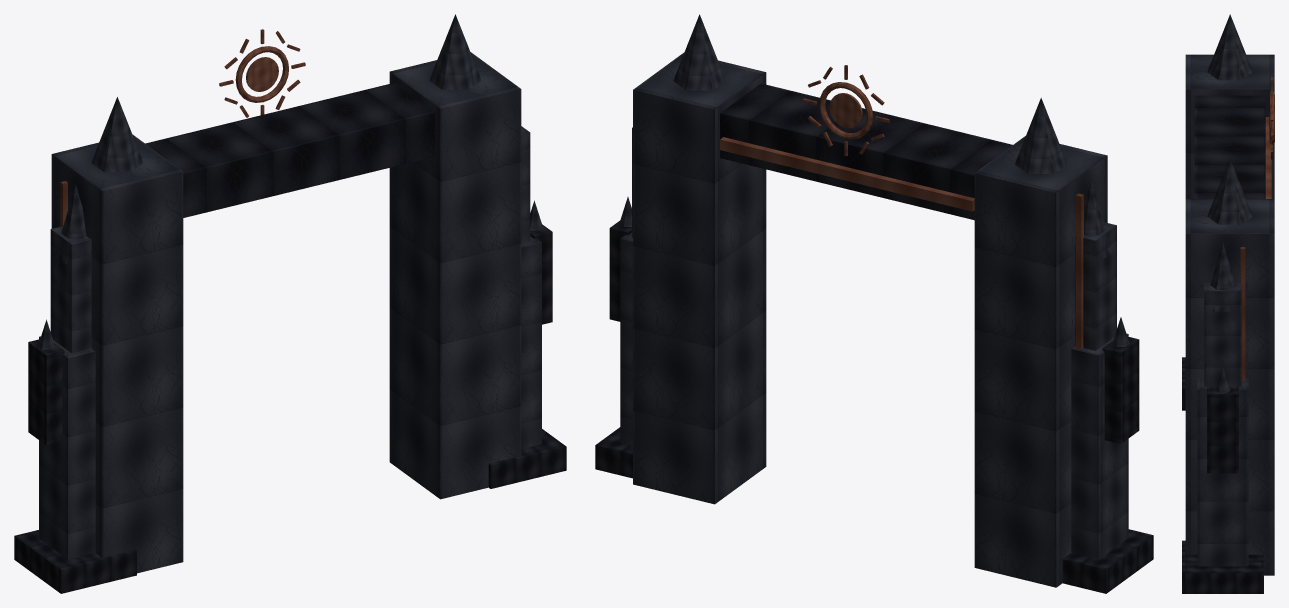
Rendered from blackstone-gate.glb.
3 renders of one model, left to right at view 1: azimuth 30°, elevation 25°; view 2: azimuth 150°, elevation 25°; view 3: azimuth 270°, elevation 25°, orthographic. The views are drawn at different scales.
Parts seen in each view (by area): view 1: Gate_Tower_1, Gate_Tower_-1, Gate_Lintel, Gate_Buttress_-1_Lower, Gate_Buttress_-1_Upper, Gate_Buttress_1_Lower, Gate_Buttress_-1_Foot, Gate_Buttress_-1_Shoulder_-1, Gate_Buttress_1_Foot, Gate_TowerCrown_-1, Gate_TowerCrown_1, Gate_Buttress_1_Shoulder_1 (+4 smaller); view 2: Gate_Tower_1, Gate_Tower_-1, Gate_Lintel, Gate_Buttress_-1_Lower, Gate_Buttress_-1_Upper, Gate_BronzeLintel, Gate_Buttress_-1_Shoulder_-1, Gate_Buttress_-1_Foot, Gate_Buttress_1_Lower, Gate_TowerCrown_1, Gate_TowerCrown_-1, Gate_Buttress_1_Foot (+5 smaller); view 3: Gate_Tower_1, Gate_Lintel, Gate_Buttress_1_Lower, Gate_Tower_-1, Gate_Buttress_1_Upper, Gate_Buttress_1_Foot, Gate_Buttress_1_Shoulder_1, Gate_TowerCrown_-1, Gate_TowerCrown_1, Gate_Buttress_1_Crown, Gate_Buttress_1_BronzeSpine, Gate_BronzeLintel (+3 smaller).
Boxes of the visible parts, x1,y1,x2,y2 form: Gate_Tower_1: (389,52,521,499); Gate_Tower_-1: (51,134,183,573); Gate_Lintel: (145,82,435,217); Gate_Buttress_-1_Lower: (39,336,95,559); Gate_Buttress_-1_Upper: (50,226,91,353); Gate_Buttress_1_Lower: (521,236,541,448); Gate_Buttress_-1_Foot: (14,530,136,593); Gate_Buttress_-1_Shoulder_-1: (28,339,64,445); Gate_Buttress_1_Foot: (488,429,566,488); Gate_TowerCrown_-1: (91,97,143,172); Gate_TowerCrown_1: (429,14,481,89); Gate_Buttress_1_Shoulder_1: (530,224,552,324); Gate_Tower_1: (633,52,766,504); Gate_Tower_-1: (974,136,1107,587); Gate_Lintel: (720,83,1012,220); Gate_Buttress_-1_Lower: (1071,333,1128,559); Gate_Buttress_-1_Upper: (1075,222,1116,350); Gate_BronzeLintel: (720,137,974,211); Gate_Buttress_-1_Shoulder_-1: (1102,336,1139,443); Gate_Buttress_-1_Foot: (1062,529,1153,593); Gate_Buttress_1_Lower: (620,232,632,445); Gate_TowerCrown_1: (673,14,725,90); Gate_TowerCrown_-1: (1015,97,1067,173); Gate_Buttress_1_Foot: (595,427,632,478); Gate_Tower_1: (1185,199,1274,575); Gate_Lintel: (1194,95,1265,198); Gate_Buttress_1_Lower: (1197,378,1248,566); Gate_Tower_-1: (1185,54,1274,198); Gate_Buttress_1_Upper: (1204,283,1241,386); Gate_Buttress_1_Foot: (1182,540,1263,593); Gate_Buttress_1_Shoulder_1: (1207,386,1238,473); Gate_TowerCrown_-1: (1207,14,1252,80); Gate_TowerCrown_1: (1207,158,1252,224); Gate_Buttress_1_Crown: (1210,243,1235,311); Gate_Buttress_1_BronzeSpine: (1240,247,1245,381); Gate_BronzeLintel: (1265,117,1271,198).
Bounding box in the file's own units: 14.37 × 12.61 × 2.61.
Materials: 3 (3 with a texture image).
